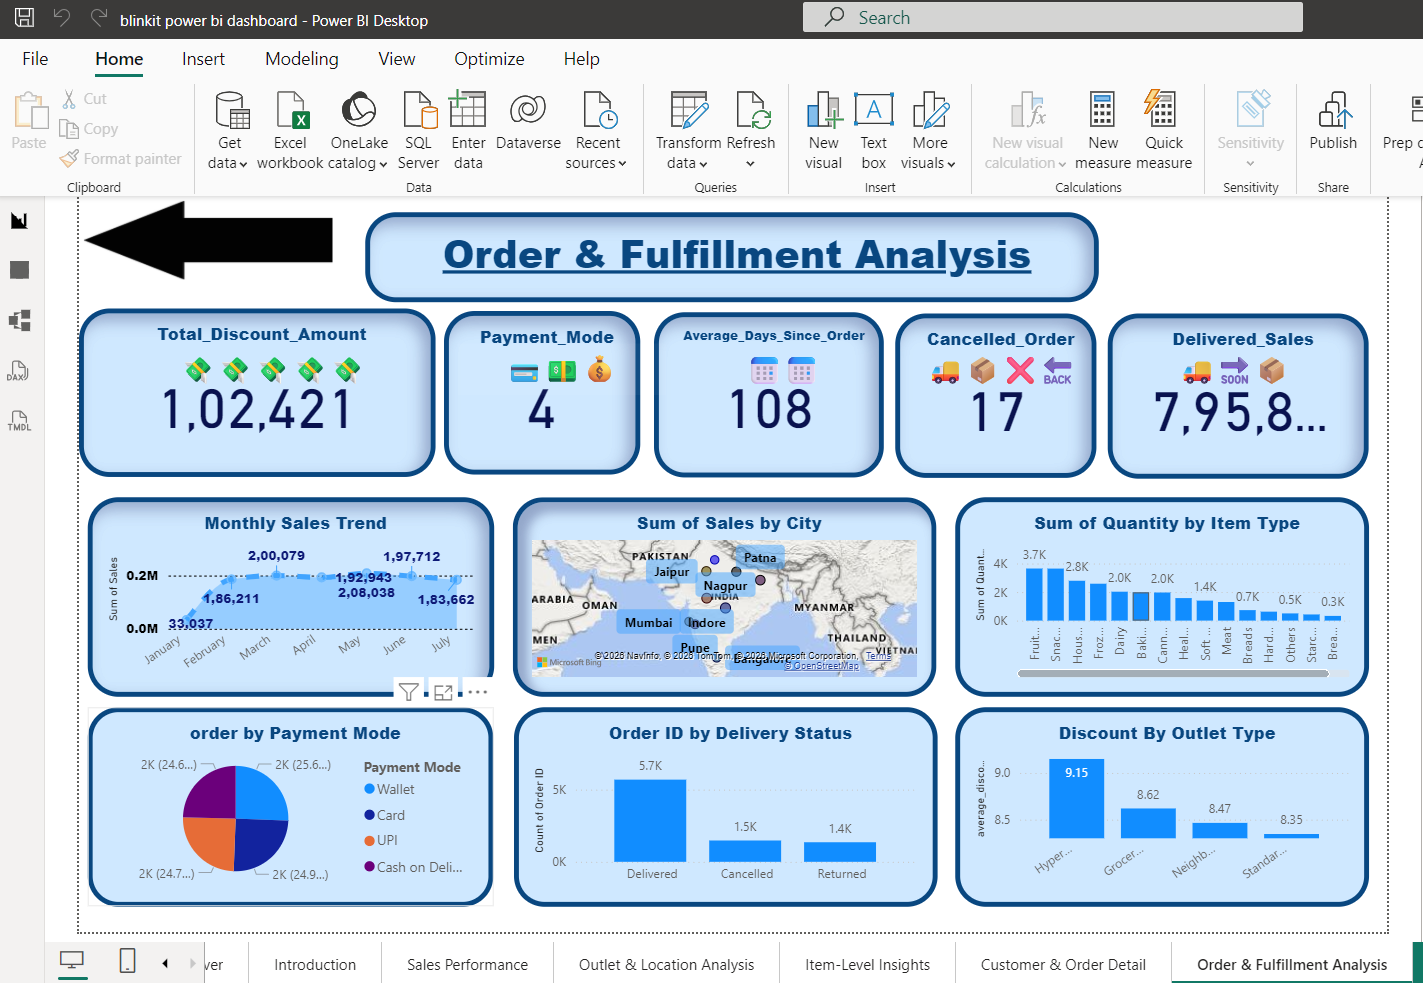

The page's visual inventory and layout, read from the dashboard file:
{"tool":"powerbi","page":{"name":"Order & Fulfillment Analysis","canvas":[1280,720],"ordinal":6},"visuals":[{"type":"textbox","title":"Order & Fulfillment Analysis","box":[280,15.9,717.8,88],"z":0},{"type":"cardVisual","title":"Total_Discount_Amount","fields":{"Data":["blinkit_data_master.Total_Discount_Amount"]},"box":[0,110.1,348.5,165.1],"z":1000},{"type":"cardVisual","title":"Payment_Mode","fields":{"Data":["blinkit_data_master.payment_mode_count"]},"box":[357.1,112.5,192,160.2],"z":2000},{"type":"cardVisual","title":"Average_Days_Since_Order","fields":{"Data":["blinkit_data_master.Average_Days_Since_Order"]},"box":[562.5,113.7,225,161.4],"z":3000},{"type":"cardVisual","title":"Cancelled_Order","fields":{"Data":["blinkit_data_master.Cancelled_Order_Rate_%"]},"box":[798.7,115.2,196.8,160.5],"z":4000},{"type":"cardVisual","title":"Delivered_Sales","fields":{"Data":["blinkit_data_master.Delivered_Sales"]},"box":[1006.4,114.9,255.6,161.4],"z":5000},{"type":"lineChart","title":"Monthly Sales Trend","fields":{"Category":["blinkit_data_master.Order Date.Variation.Date Hierarchy.Month"],"Y":["Sum(blinkit_data_master.Sales)"]},"box":[9.1,295.1,397.4,195.5],"z":6000},{"type":"pieChart","title":"order by Payment Mode","fields":{"Y":["blinkit_data_master.Total_order"],"Category":["blinkit_data_master.Payment Mode"]},"box":[9,500,397,195],"z":7000},{"type":"map","fields":{"Category":["blinkit_data_master.City"],"Size":["Sum(blinkit_data_master.Sales)"]},"box":[424.6,295.1,414.2,195.5],"z":8000},{"type":"clusteredColumnChart","title":" Order ID by Delivery Status","fields":{"Category":["blinkit_data_master.Delivery Status"],"Y":["CountNonNull(blinkit_data_master.Order ID)"]},"box":[425,500,414,195],"z":9000},{"type":"clusteredColumnChart","fields":{"Category":["blinkit_data_master.Item Type"],"Y":["Sum(blinkit_data_master.Quantity)"]},"box":[857,295.1,405.2,195.5],"z":10000},{"type":"clusteredColumnChart","title":"Discount By Outlet Type","fields":{"Category":["blinkit_data_master.Outlet Type"],"Y":["blinkit_data_master.average_discount_%"]},"box":[857,500,405,195],"z":11000},{"type":"textbox","box":[22,146.7,335.1,110.1],"z":12000},{"type":"textbox","box":[370.5,144.3,204.2,50.1],"z":13000},{"type":"textbox","box":[539.3,146.7,299.6,55],"z":14000},{"type":"textbox","box":[809.5,146.7,185.9,55],"z":15000},{"type":"textbox","box":[980.7,146.7,299.6,47.7],"z":16000},{"type":"image","box":[0,0,253.1,86.8],"z":16001}]}

Visuals, with their boxes on the page's 1280x720 design canvas (x1, y1, x2, y2). These are canvas units, not pixel positions in the 1423x983 screenshot, which may show the page scaled, cropped or inside an application window:
"Order & Fulfillment Analysis" textbox: [280,16,998,104]
"Total_Discount_Amount" cardVisual: [0,110,348,275]
"Payment_Mode" cardVisual: [357,112,549,273]
"Average_Days_Since_Order" cardVisual: [562,114,788,275]
"Cancelled_Order" cardVisual: [799,115,996,276]
"Delivered_Sales" cardVisual: [1006,115,1262,276]
"Monthly Sales Trend" lineChart: [9,295,406,491]
"order by Payment Mode" pieChart: [9,500,406,695]
map - blinkit_data_master.City x Sum(blinkit_data_master.Sales): [425,295,839,491]
" Order ID by Delivery Status" clusteredColumnChart: [425,500,839,695]
clusteredColumnChart - blinkit_data_master.Item Type x Sum(blinkit_data_master.Quantity): [857,295,1262,491]
"Discount By Outlet Type" clusteredColumnChart: [857,500,1262,695]
textbox: [22,147,357,257]
textbox: [370,144,575,194]
textbox: [539,147,839,202]
textbox: [810,147,995,202]
textbox: [981,147,1280,194]
image: [0,0,253,87]
